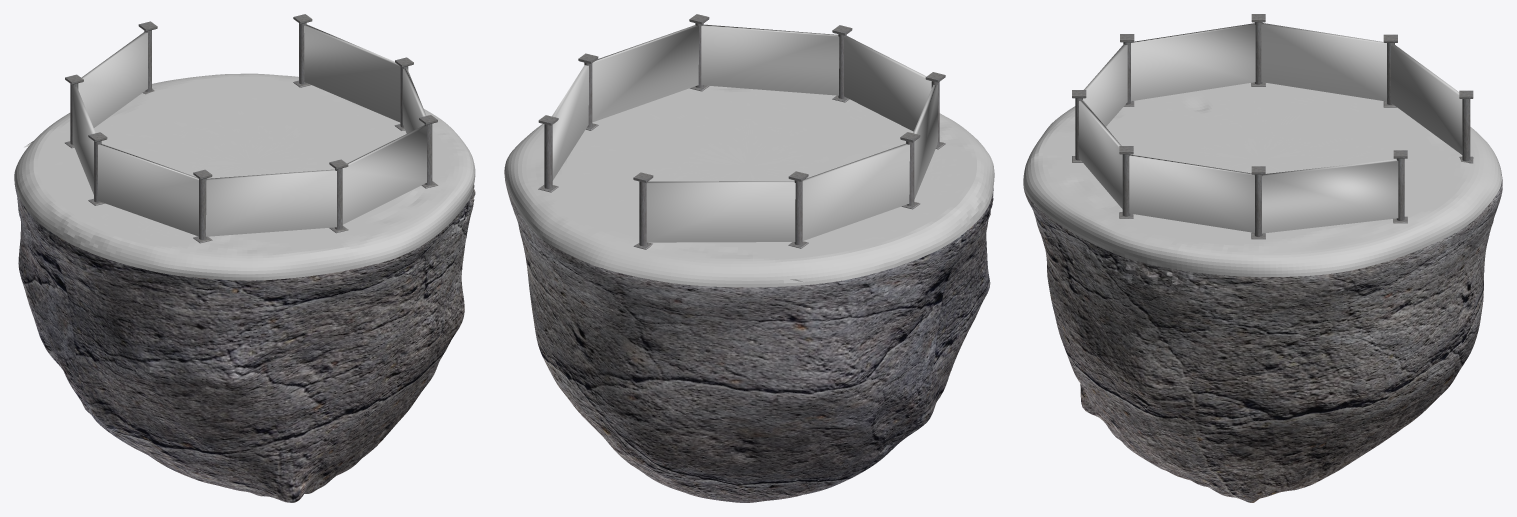
Rendered from insula4.fbx.
The picture shows the model from 3 angles, left to right: view 1: azimuth 30°, elevation 25°; view 2: azimuth 150°, elevation 25°; view 3: azimuth 270°, elevation 25°; orthographic projection. The views are drawn at different scales.
Parts seen in each view (by area): view 1: Insula.001; view 2: Insula.001; view 3: Insula.001.
Boxes of the visible parts, x1,y1,x2,y2 form: Insula.001: (14, 14, 475, 502); Insula.001: (504, 14, 994, 502); Insula.001: (1023, 14, 1502, 502).
Size of the model in its own units: 1232 by 1087 by 1250.
